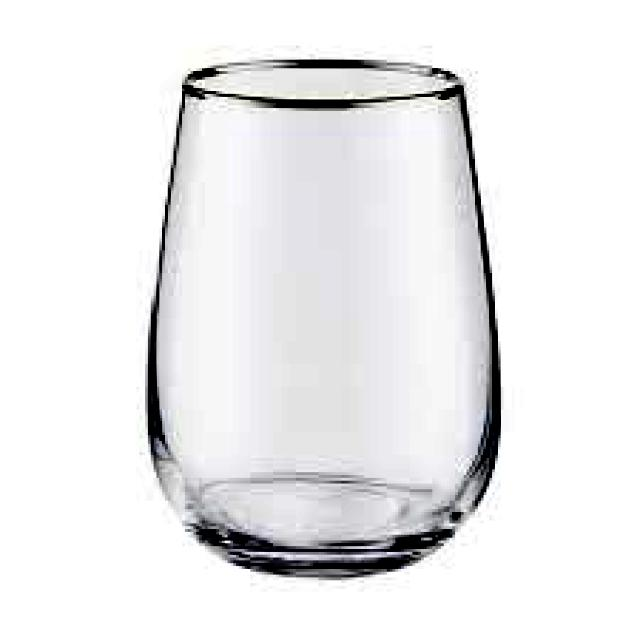Glass: (144, 49, 511, 578)
